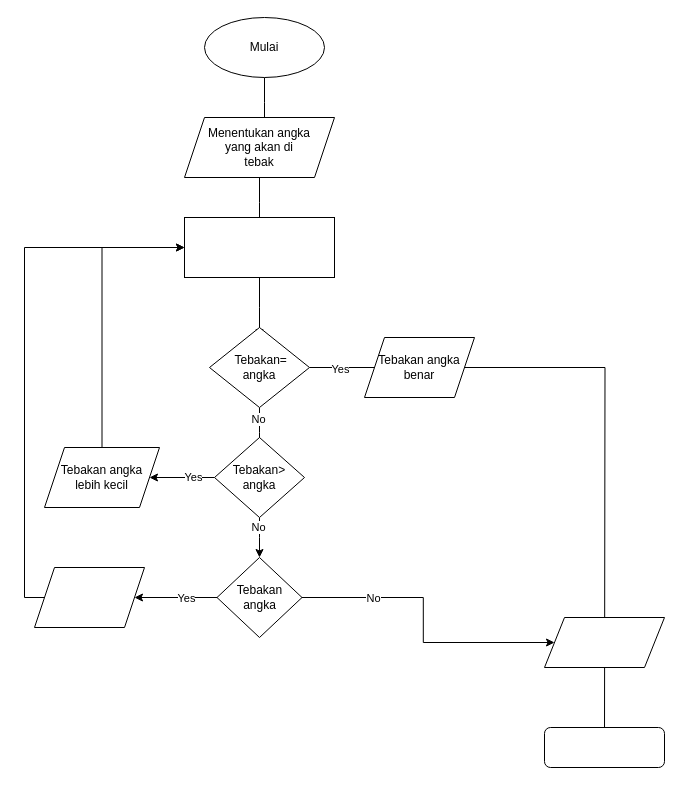
This 682x785 diagram has some shape labels left out. Each missing label, with the box of its shape:
Jawaban benar: (544, 616, 664, 668)
menebak angka yang di tentukan: (184, 216, 334, 278)
Selesai: (544, 726, 664, 768)
Tebakan angka lebi besar: (34, 566, 144, 628)
